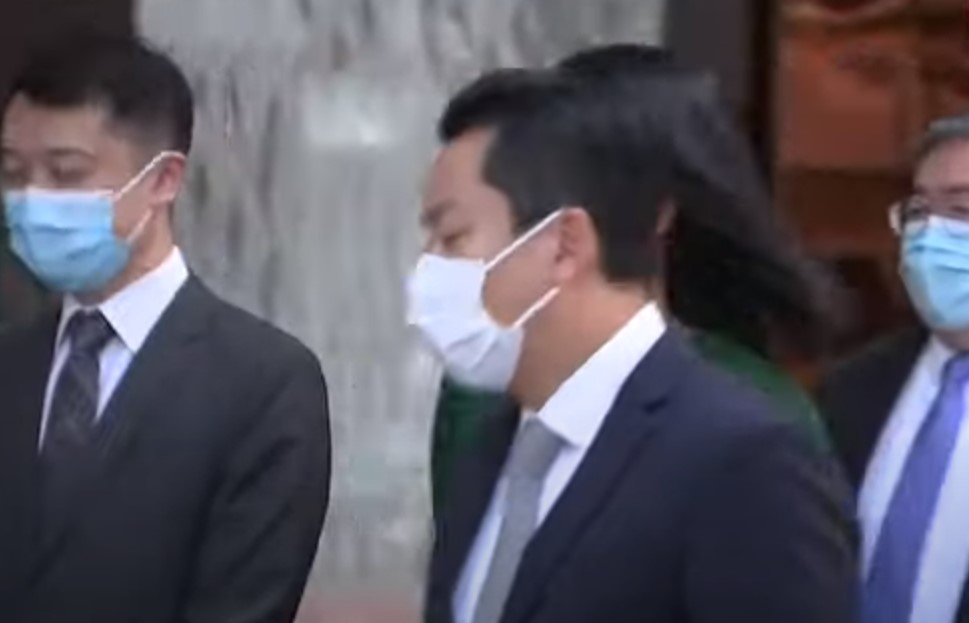face_with_mask: (400, 73, 663, 399), (6, 27, 195, 283), (894, 119, 967, 348)
